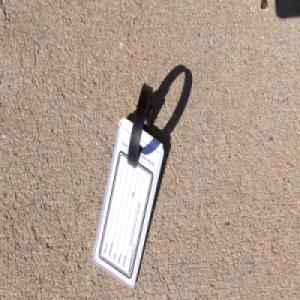LuggageTag: (91, 77, 165, 289)
